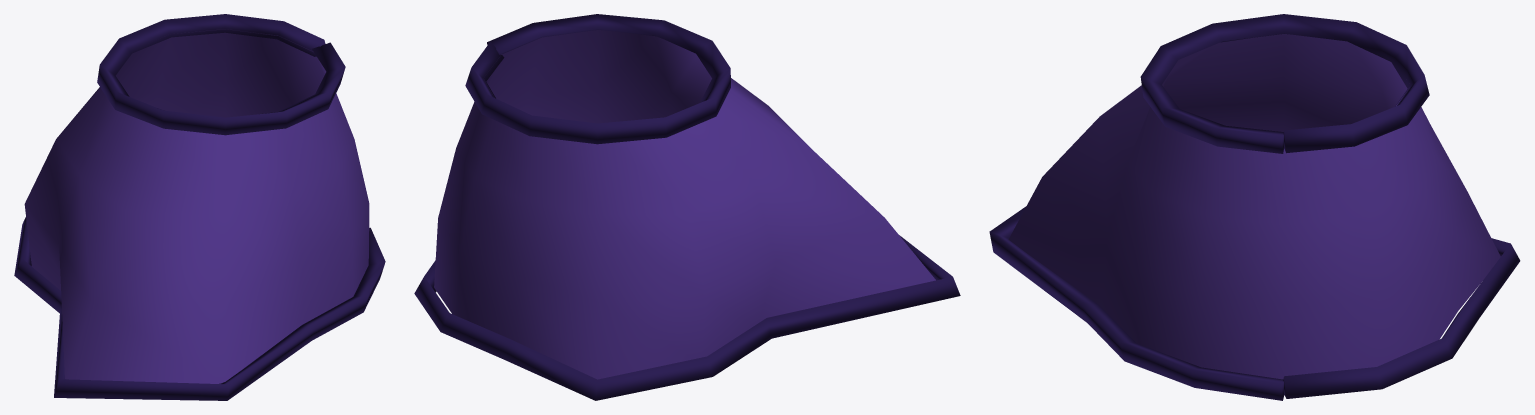
The model's file is beetle_armor_pauldron.R.glb.
The picture shows the model from 3 angles, left to right: view 1: azimuth 30°, elevation 25°; view 2: azimuth 150°, elevation 25°; view 3: azimuth 270°, elevation 25°; orthographic projection. The views are drawn at different scales.
Parts seen in each view (by area): view 1: beetle_armor_pauldron.R; view 2: beetle_armor_pauldron.R; view 3: beetle_armor_pauldron.R.
Boxes of the visible parts, x1,y1,x2,y2 form: beetle_armor_pauldron.R: [14, 14, 385, 400]; beetle_armor_pauldron.R: [414, 14, 960, 400]; beetle_armor_pauldron.R: [989, 14, 1520, 400].
Size of the model in its own units: 0.3204 by 0.1646 by 0.3194.
